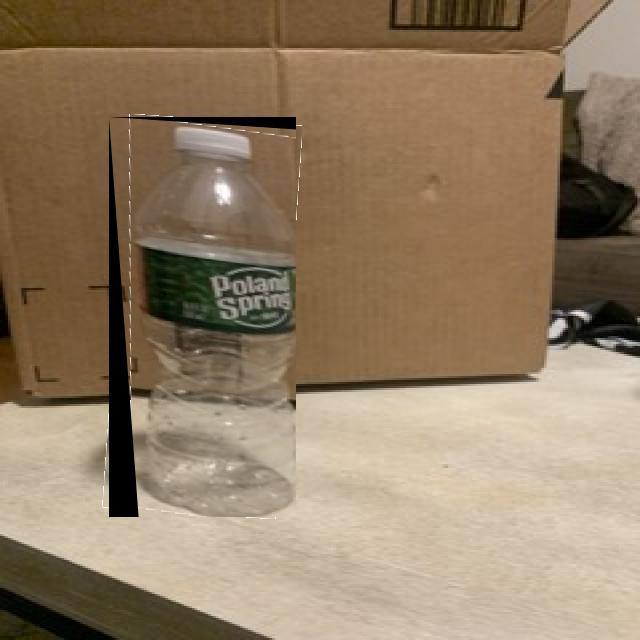water_bottle: (109, 117, 296, 517)
